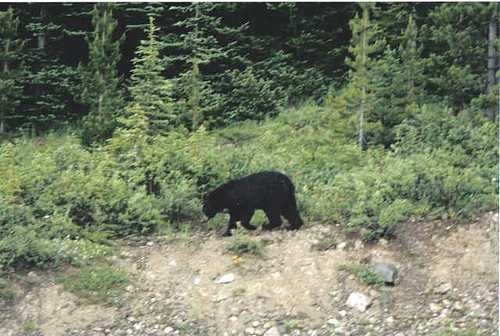bear: (187, 143, 315, 271)
